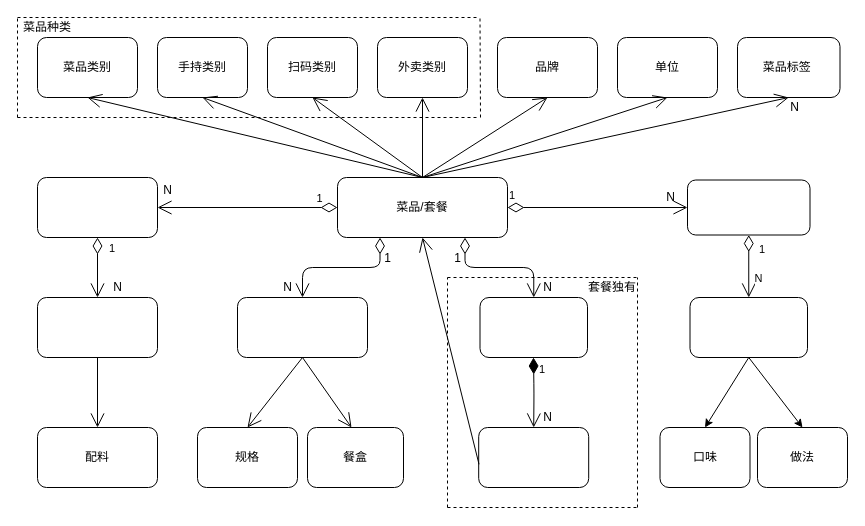
The diagram is 865 pixels wide and 526 high, and some of its shapes have lost their labels. Each missing label, with the box of its shape:
关联口味/做法分组: (686, 179, 810, 235)
关联套餐分组: (479, 296, 588, 358)
关联配料组: (36, 176, 158, 238)
口味/做法分组明细: (689, 296, 808, 358)
套餐分组明细: (478, 426, 589, 488)
规格售价: (236, 296, 368, 358)
配料组明细: (36, 296, 158, 358)
